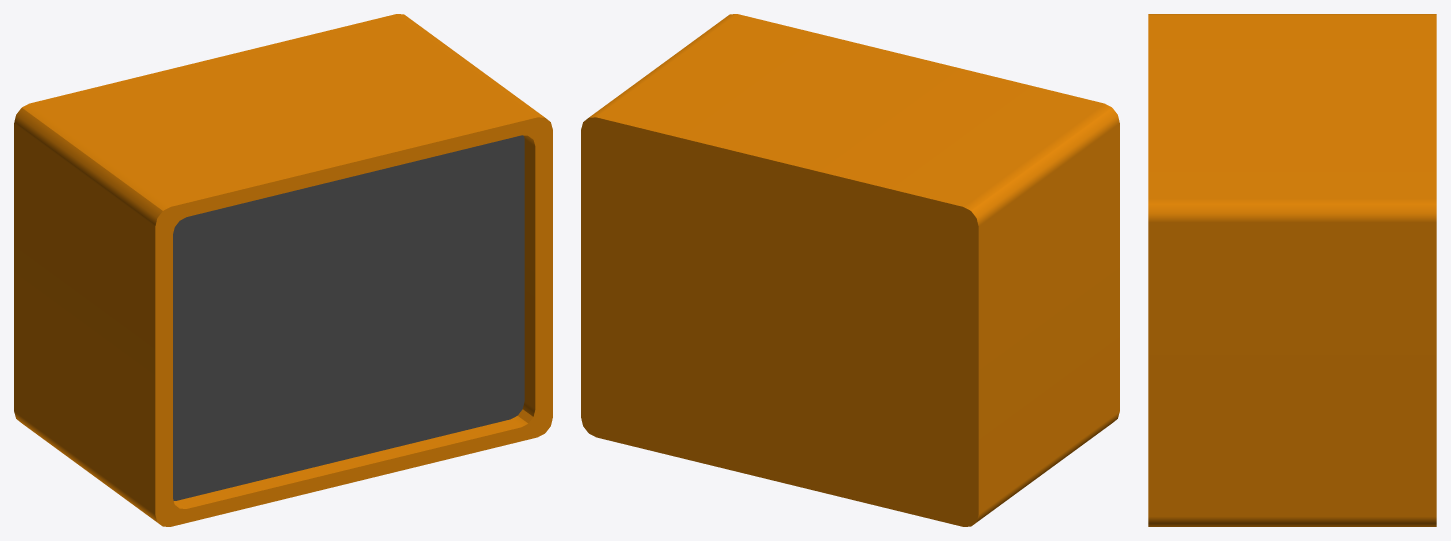
3 views of the same model, side by side, from view 1: azimuth 30°, elevation 25°; view 2: azimuth 150°, elevation 25°; view 3: azimuth 270°, elevation 25° (orthographic). The views are drawn at different scales.
Parts seen in each view (by area): view 1: Base_1; view 2: Base_1; view 3: Base_1.
Boxes of the visible parts, bbox=[...] form: Base_1: bbox=[14, 14, 552, 526]; Base_1: bbox=[581, 14, 1119, 526]; Base_1: bbox=[1148, 14, 1436, 526].
Size of the model in its own units: 1.3 by 1 by 0.8.
